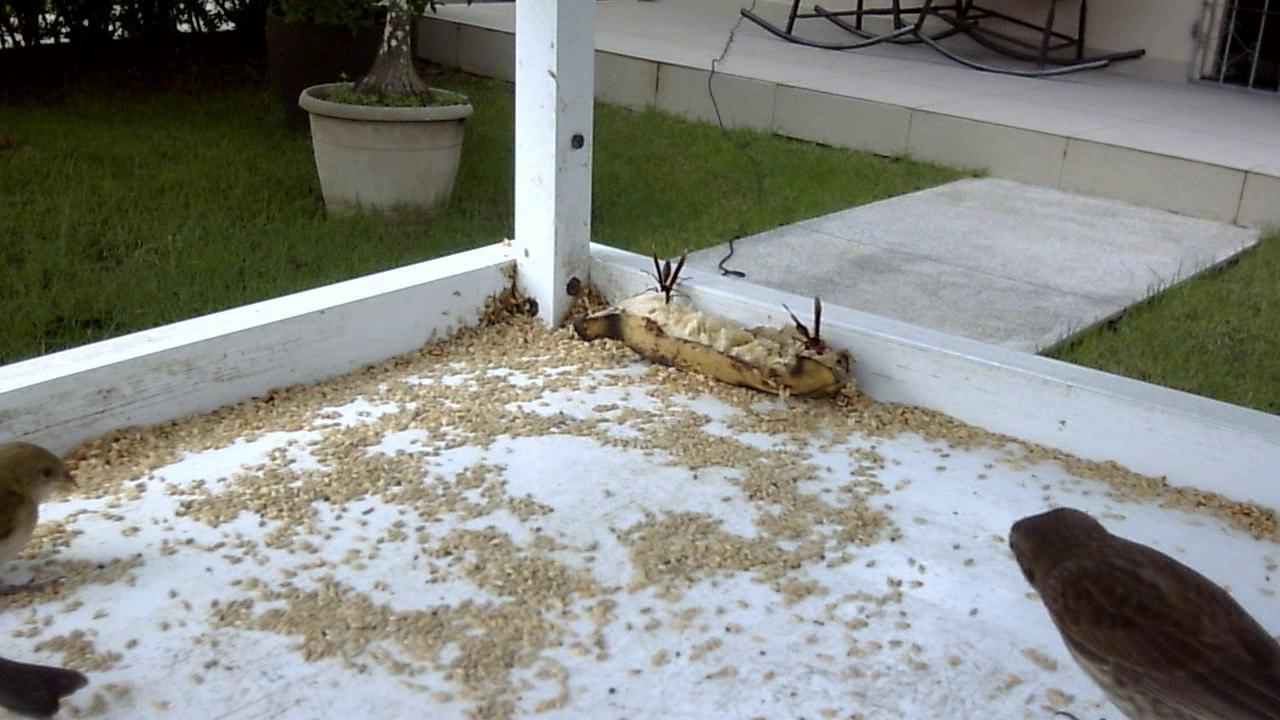canario_do_amazonas: (1, 430, 83, 600)
chupim: (996, 493, 1278, 712)
